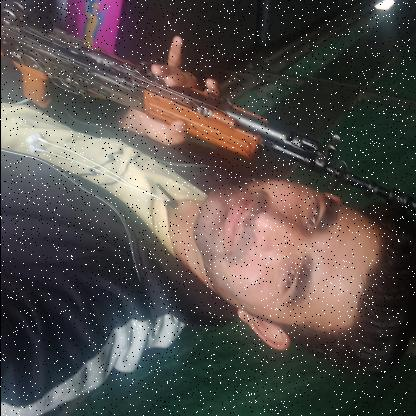rifle: (0, 0, 416, 211)
